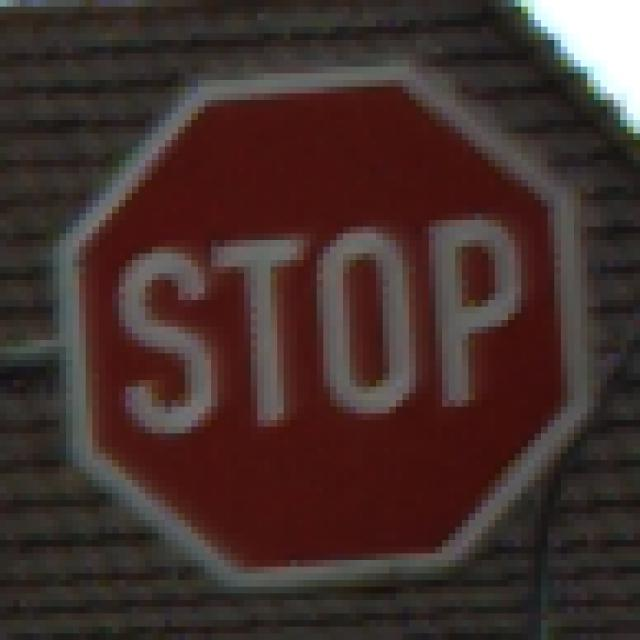STOP: (54, 54, 588, 581)
